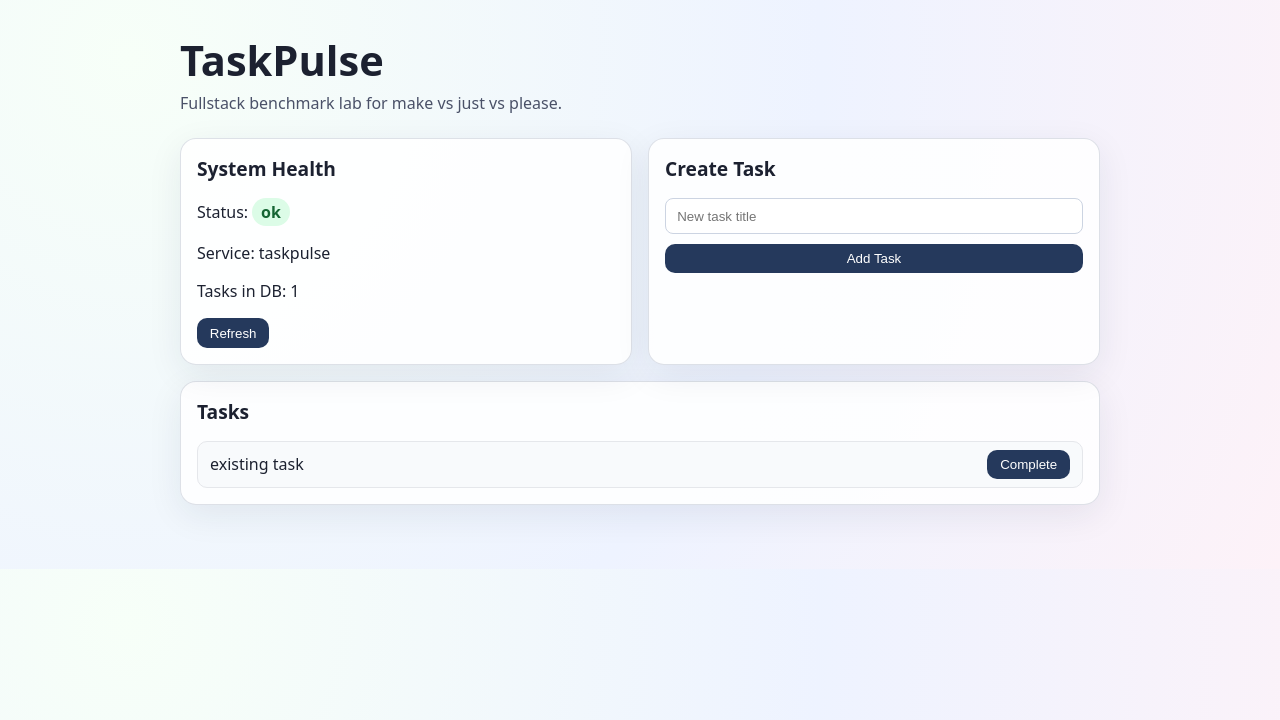
Scenario: App › renders tasks and creates a new one
Expected: the text "existing task" is shown, left=210, top=453, right=304, bottom=475
In the field named "task-title": (874, 216) left=665, top=198, right=1083, bottom=234, type "new task"
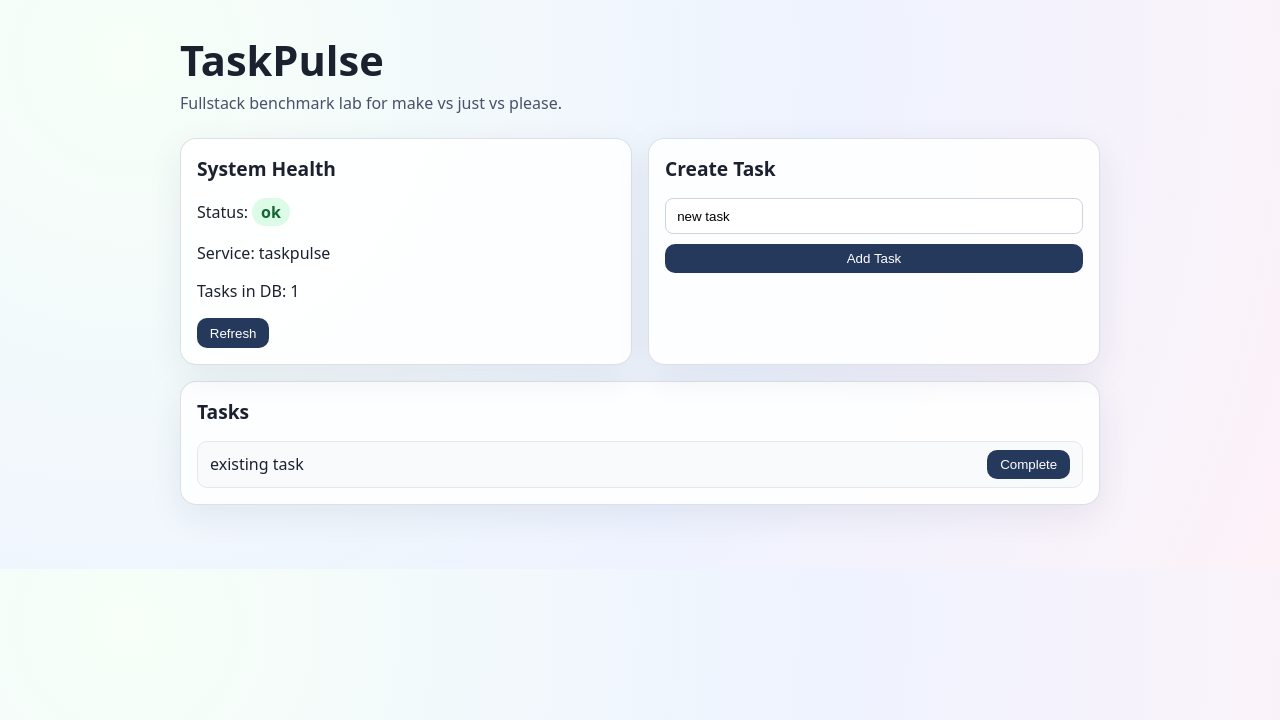
Click the button "Add Task": (874, 258) left=665, top=244, right=1083, bottom=273
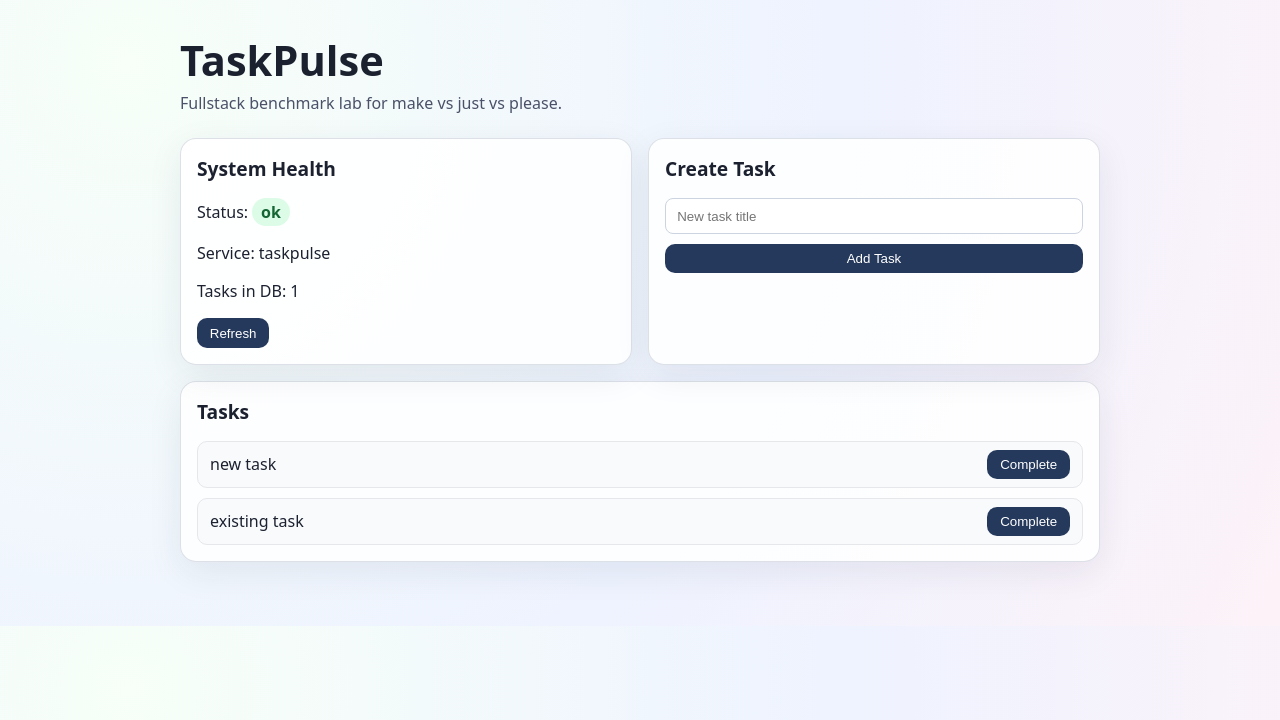
Expected: the text "new task" is shown, left=210, top=453, right=276, bottom=475
